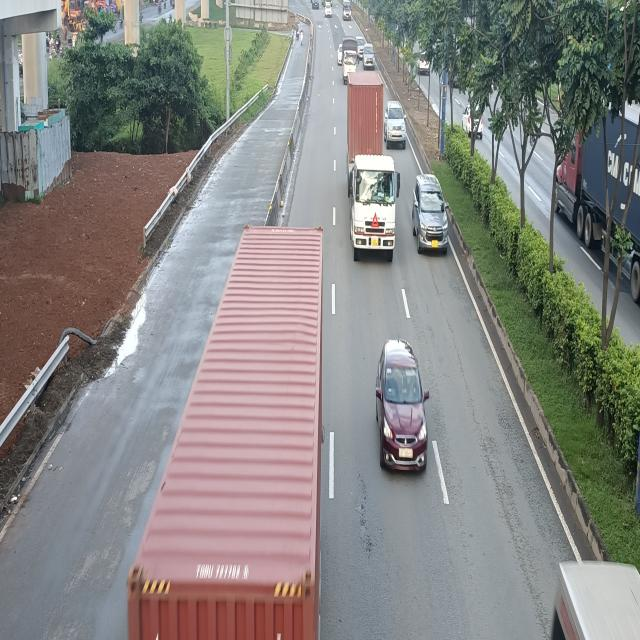car: (372, 342, 428, 475), (411, 173, 448, 256), (384, 103, 408, 152)
container: (105, 220, 329, 638), (347, 69, 401, 260)
